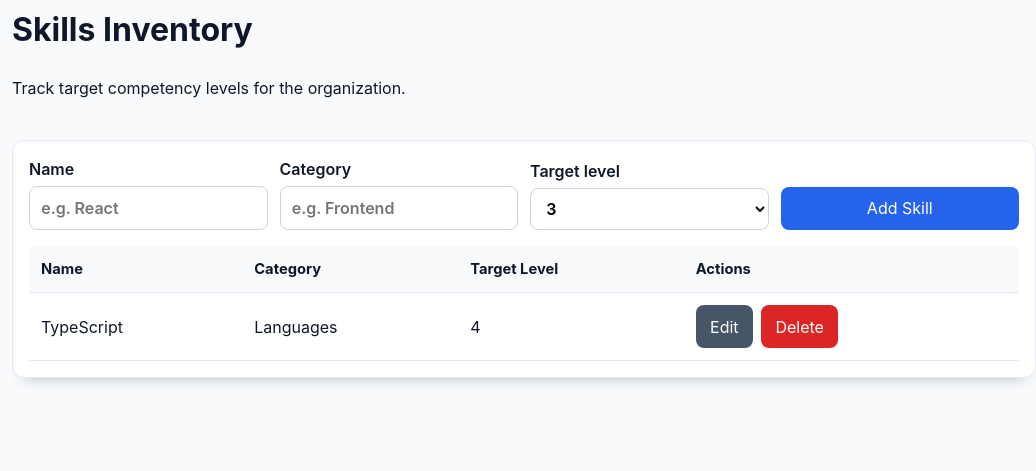
Test: SkillsPage › creates a skill
Expected: the text "TypeScript" is shown, [29,293,242,361]
Type "GraphQL" into the field with test id "skill-name-input" at (148, 208), box [29,186,268,230]
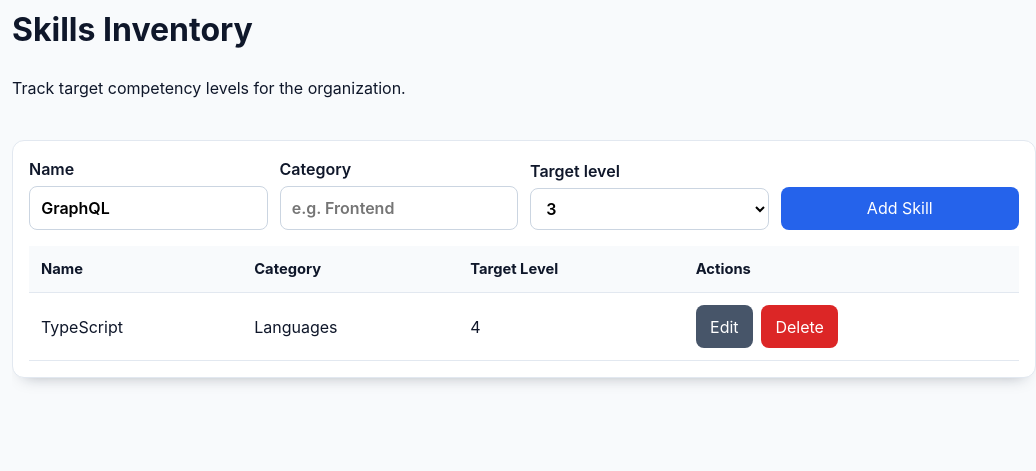
Type "Backend" into the field with test id "skill-category-input" at (399, 208), box [280,186,518,230]
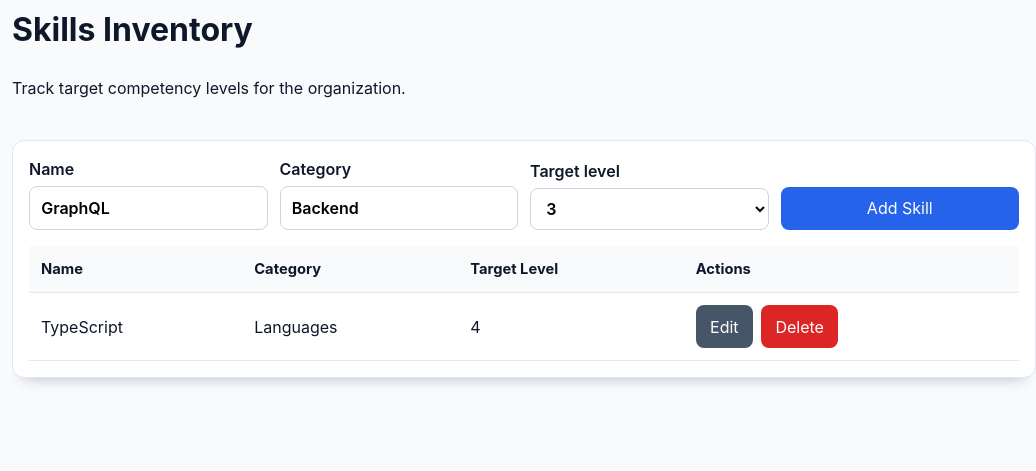
Click the button with test id "add-skill-button" at (900, 208), box [780,187,1019,230]
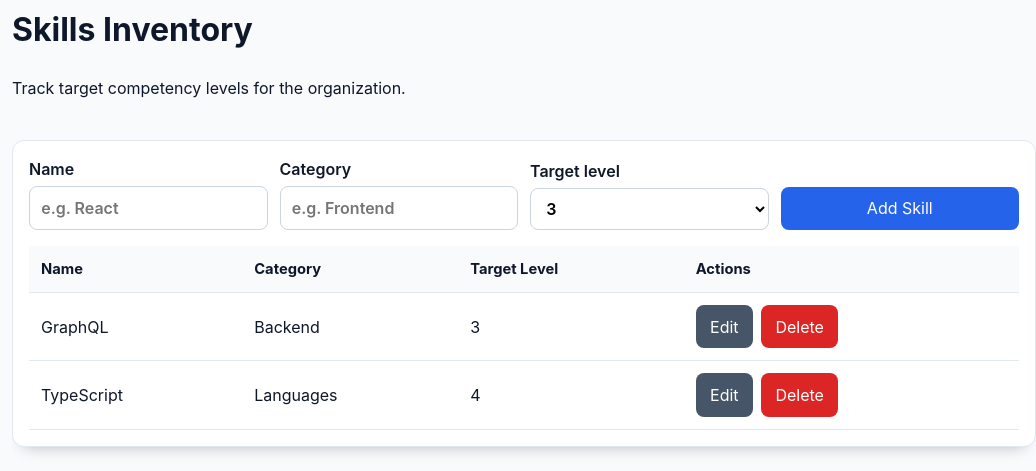
Expected: the text "GraphQL" is shown, [29,293,242,361]
